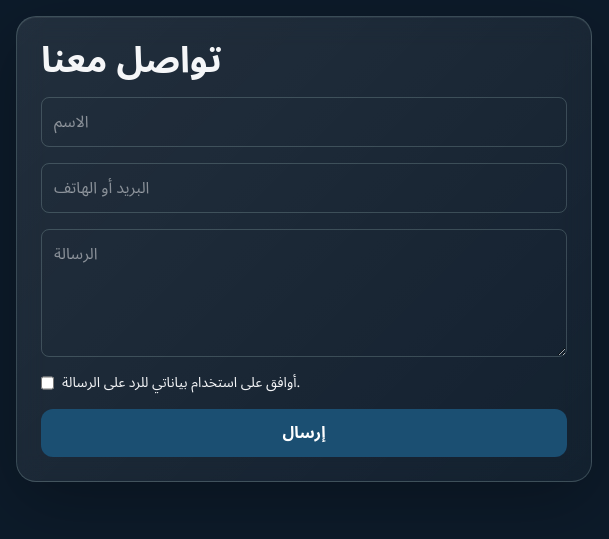
Test case: T7-A6.3 ar UI contracts › contact raw preserves payload, raw error precedence and localized placeholders
Type "RAW name اسم" into the field with placeholder "الاسم" at x=304, y=122, box [41,97,567,147]
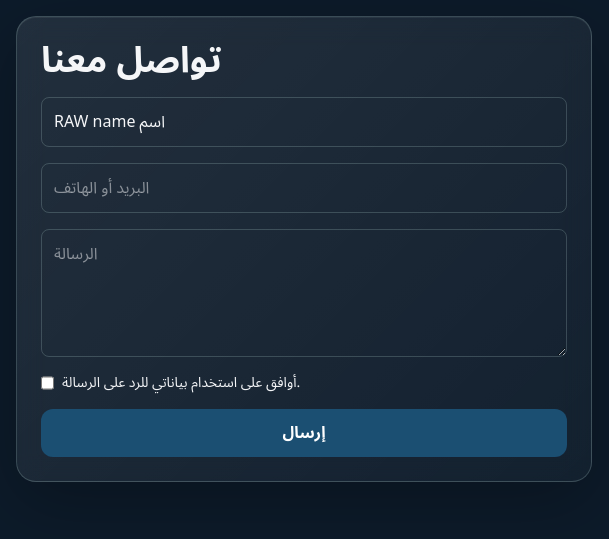
Type "raw@example.test" into the field with placeholder "البريد أو الهاتف" at x=304, y=188, box [41,163,567,213]
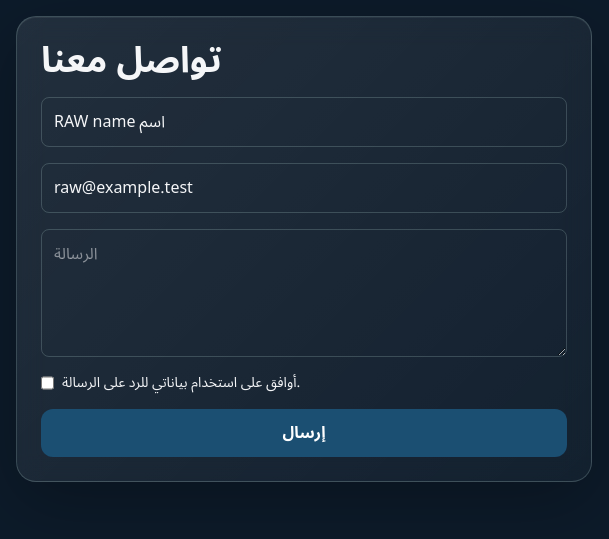
Type "RAW message رسالة" into the text box with placeholder "الرسالة" at x=304, y=293, box [41,229,567,357]
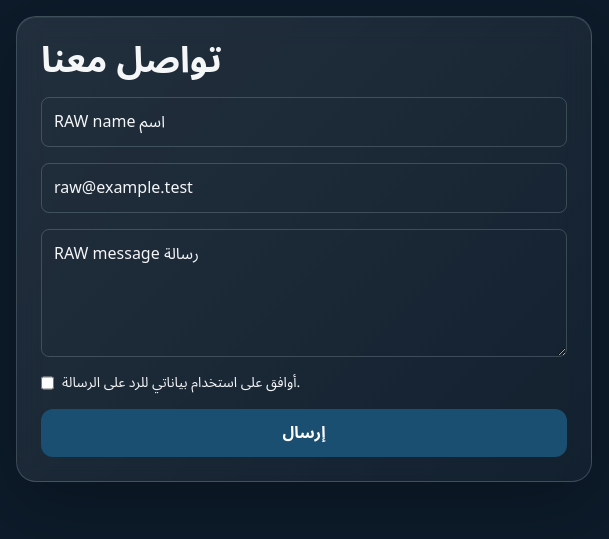
Click the checkbox at x=48, y=383, box [41,373,54,393]
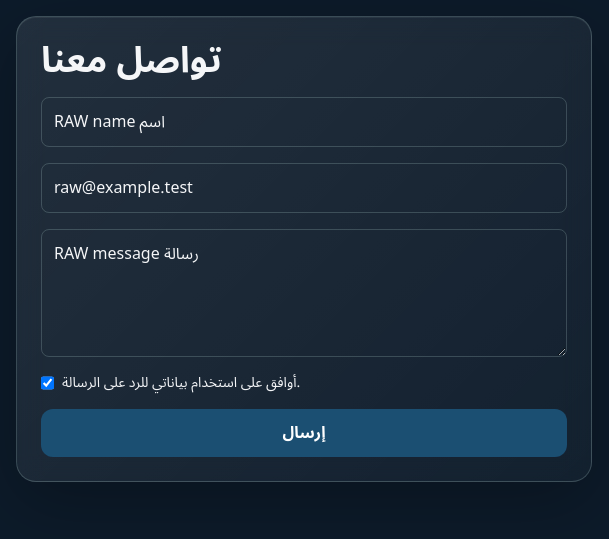
Click the button "إرسال" at x=304, y=433, box [41,409,567,457]
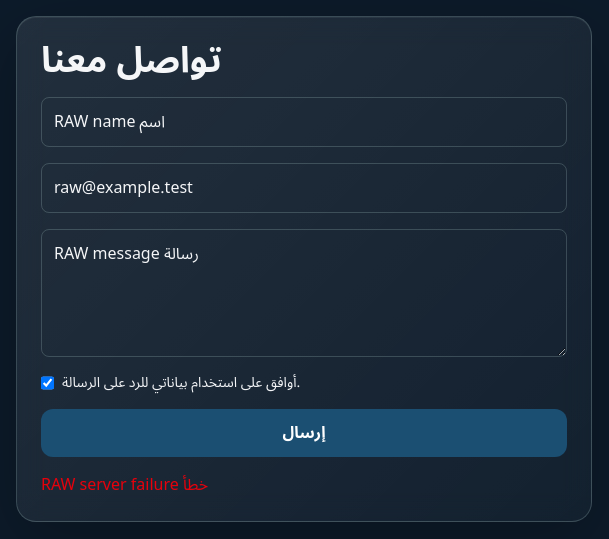
Expected: the message reads "RAW server failure خطأ", [41,468,208,502]
